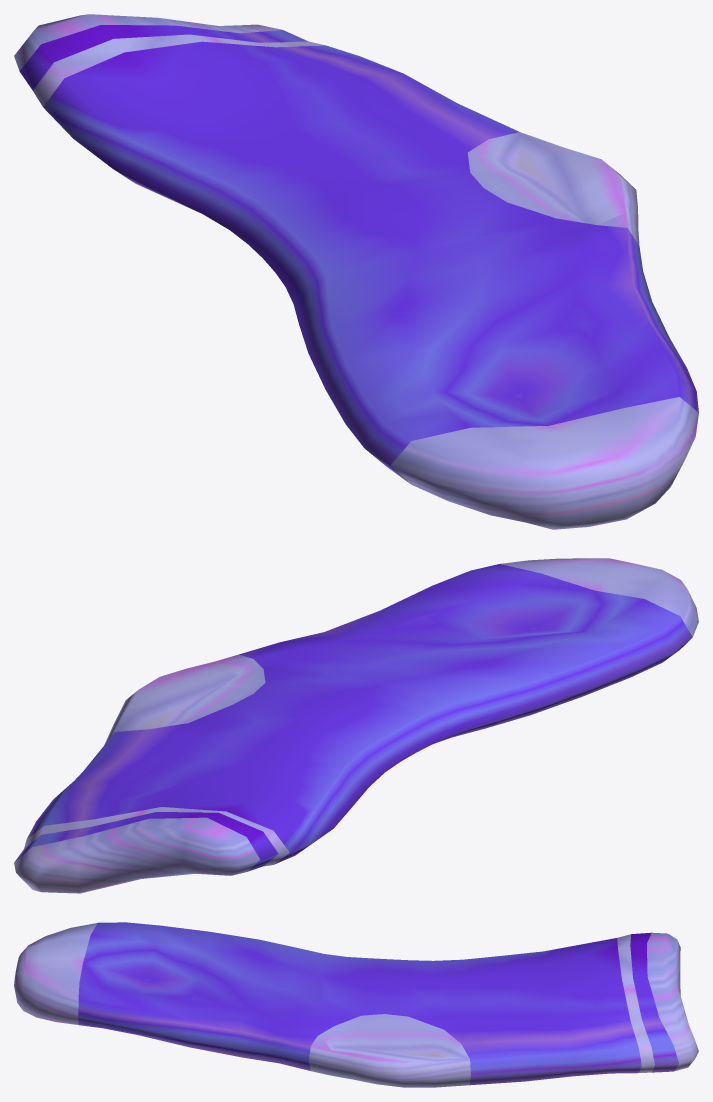
Rendered from sockB.glb.
3 renders of one model, top to bottom at view 1: azimuth 30°, elevation 25°; view 2: azimuth 150°, elevation 25°; view 3: azimuth 270°, elevation 25°, orthographic. The views are drawn at different scales.
Parts seen in each view (by area): view 1: sockB; view 2: sockB; view 3: sockB.
Part boxes in pixels (x1,y1,x2,y2): sockB: (14, 14, 698, 529); sockB: (14, 558, 698, 893); sockB: (14, 922, 698, 1087).
Size of the model in its own units: 0.8633 by 0.2003 by 1.78.
1 material, 1 textured.
